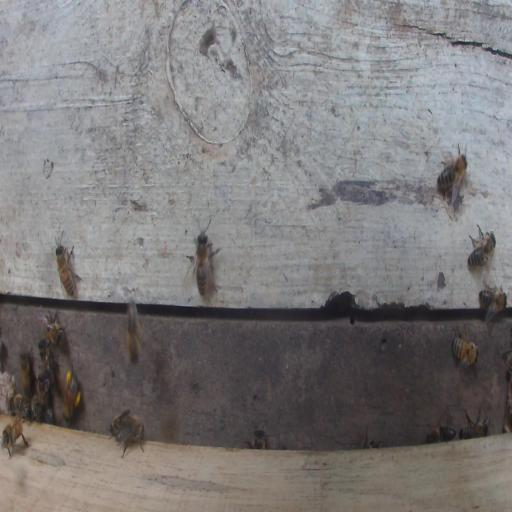nonpollenbee: (55, 231, 83, 299), (467, 224, 497, 273), (115, 410, 146, 457), (436, 153, 467, 192), (2, 415, 29, 459), (451, 329, 480, 366), (126, 300, 141, 366), (478, 287, 507, 320), (41, 309, 64, 347), (459, 410, 489, 439), (196, 233, 208, 296), (38, 339, 55, 383), (425, 425, 456, 443), (10, 393, 31, 419), (110, 409, 130, 436), (19, 352, 31, 395), (247, 426, 267, 449), (36, 374, 49, 404), (31, 395, 42, 421)
pollenbee: (62, 370, 81, 422)
